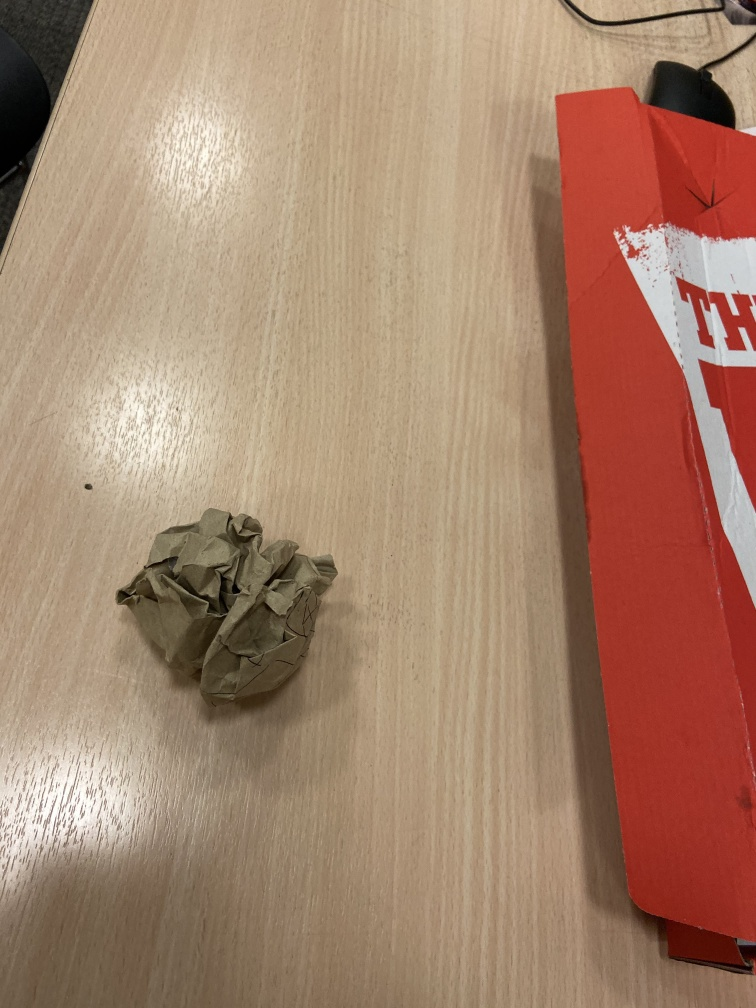paper_brown: (110, 502, 343, 715)
